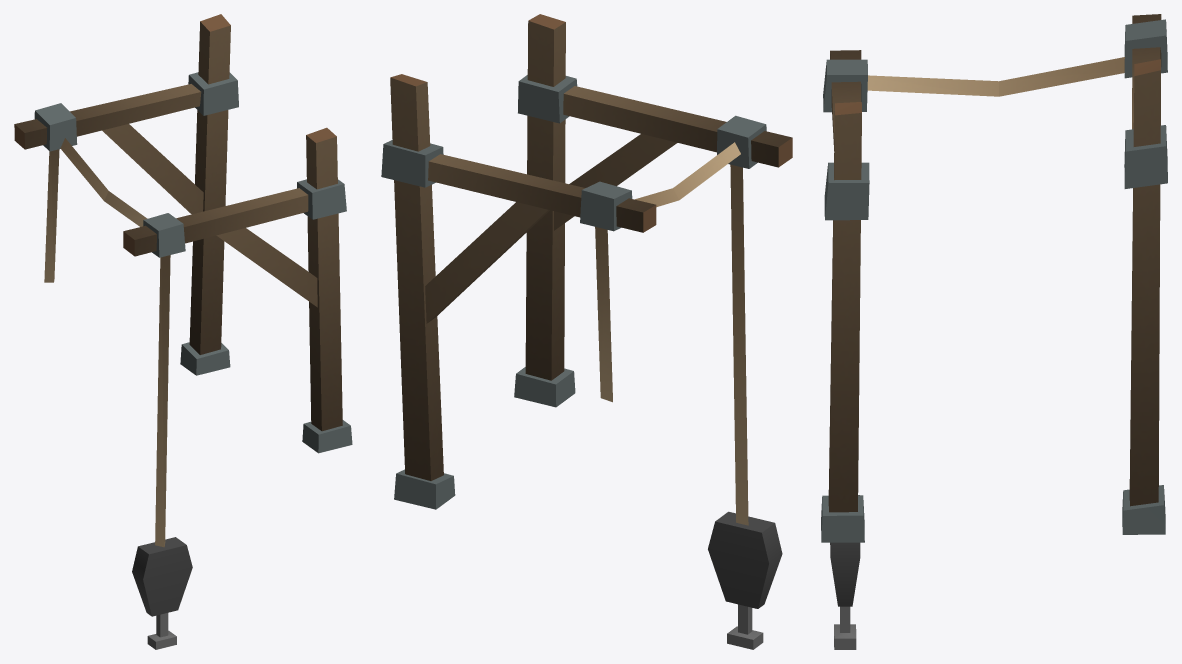
File: ZLP_Build_F_30.FBX
3 views of the same model, side by side, from view 1: azimuth 30°, elevation 25°; view 2: azimuth 150°, elevation 25°; view 3: azimuth 270°, elevation 25° (orthographic). The views are drawn at different scales.
Parts seen in each view (by area): view 1: ZLP_Build_F_30; view 2: ZLP_Build_F_30; view 3: ZLP_Build_F_30.
Boxes of the visible parts, x1,y1,x2,y2 form: ZLP_Build_F_30: (14,14,352,649); ZLP_Build_F_30: (381,14,792,649); ZLP_Build_F_30: (821,14,1167,649).
Bounding box in the file's own units: 267 × 599 × 274.
